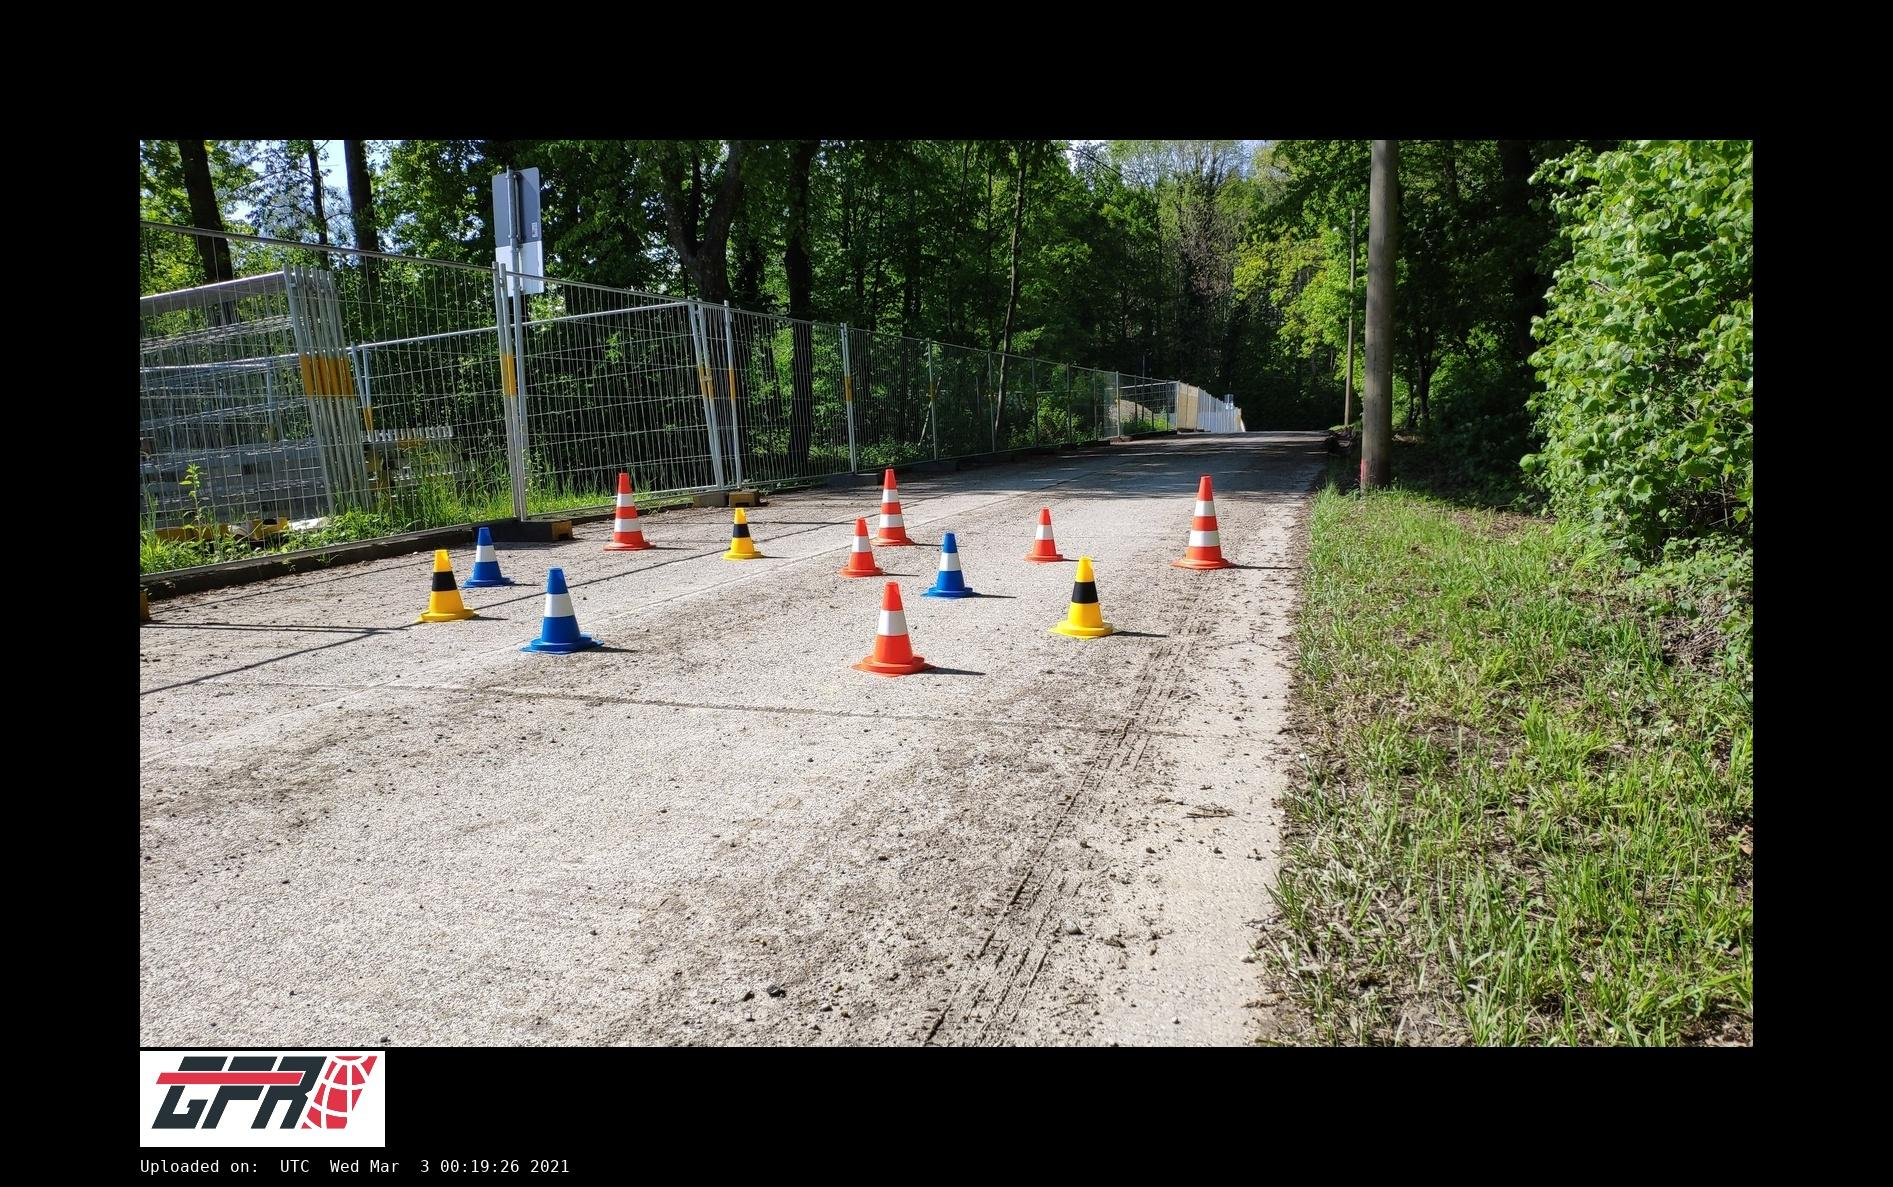blue_cone: (522, 568, 604, 654), (923, 532, 979, 598), (461, 526, 513, 588)
large_orange_cone: (1173, 476, 1234, 569), (604, 473, 653, 550), (871, 469, 914, 546)
orange_cone: (852, 583, 935, 678), (839, 518, 884, 577), (1022, 507, 1067, 562)
yellow_cone: (1052, 558, 1119, 639), (416, 550, 478, 622), (723, 507, 764, 559)
